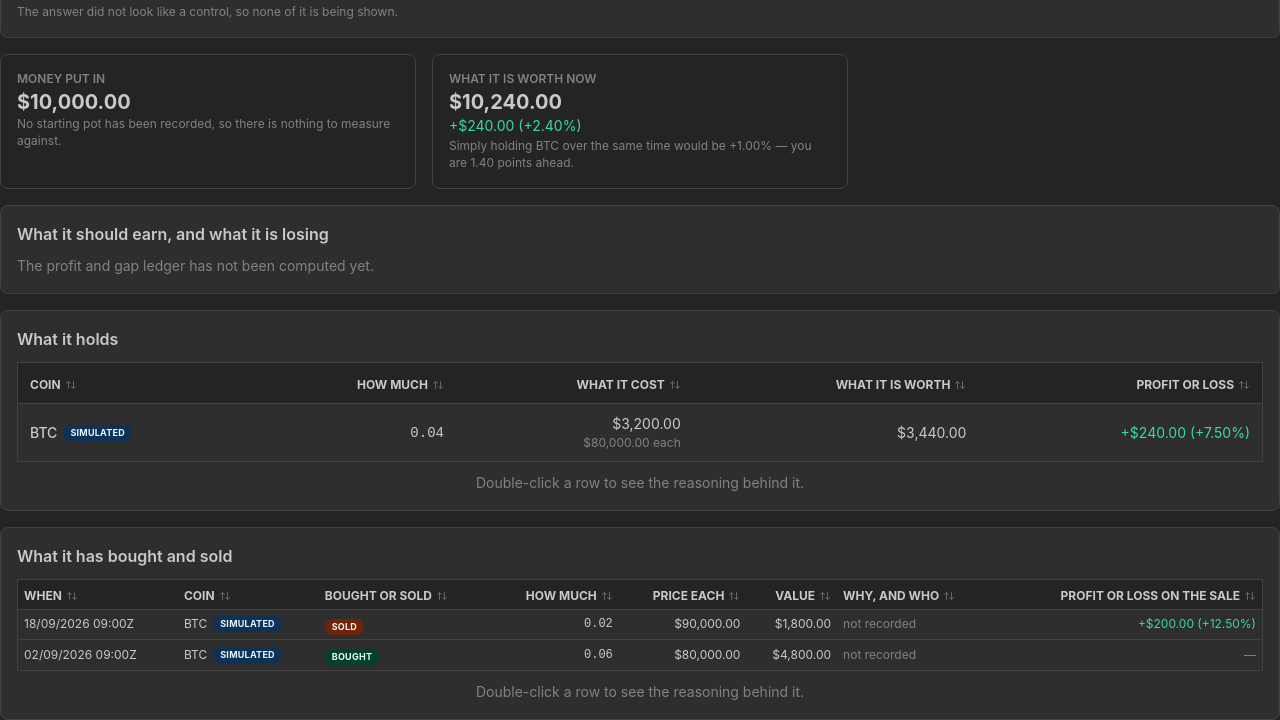
Test: Home › selects on one click and opens the reasoning on two
(page scrolled)
Click the row with test id "data-row-a:2" at (640, 625), box [18, 610, 1262, 640]
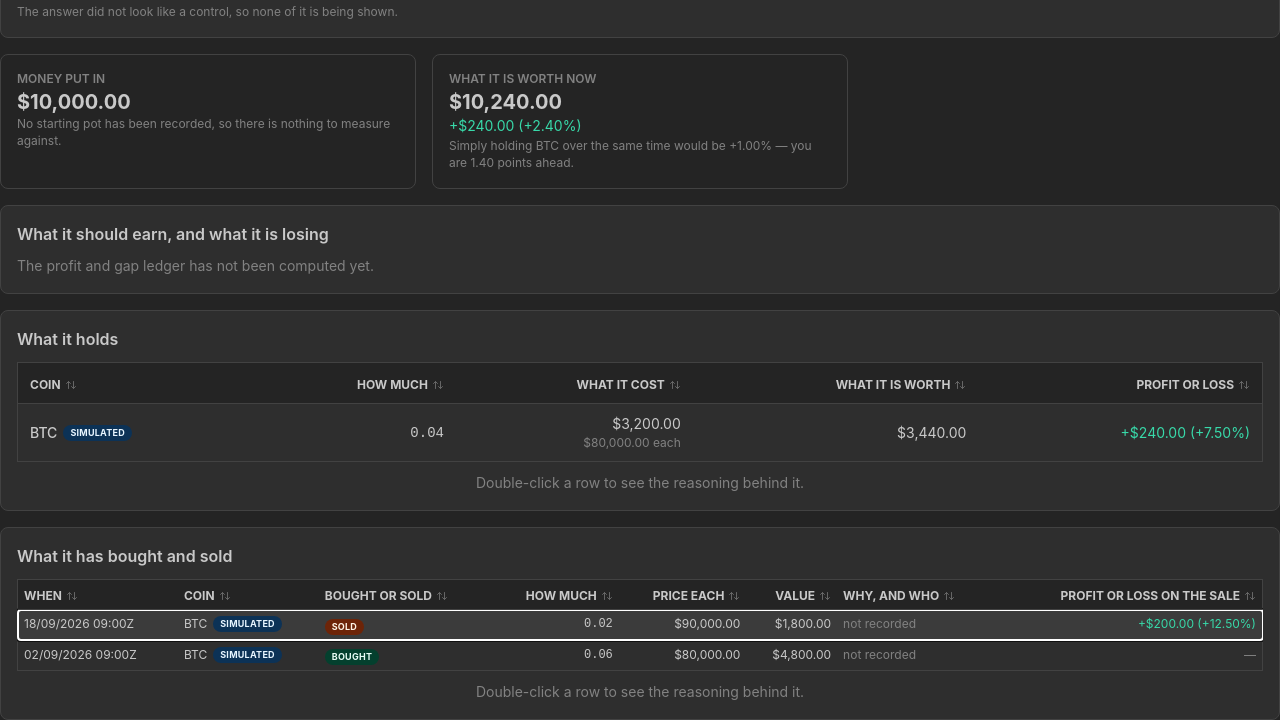
Double-click the row with test id "data-row-a:2" at (640, 625), box [18, 610, 1262, 640]
(page scrolled)
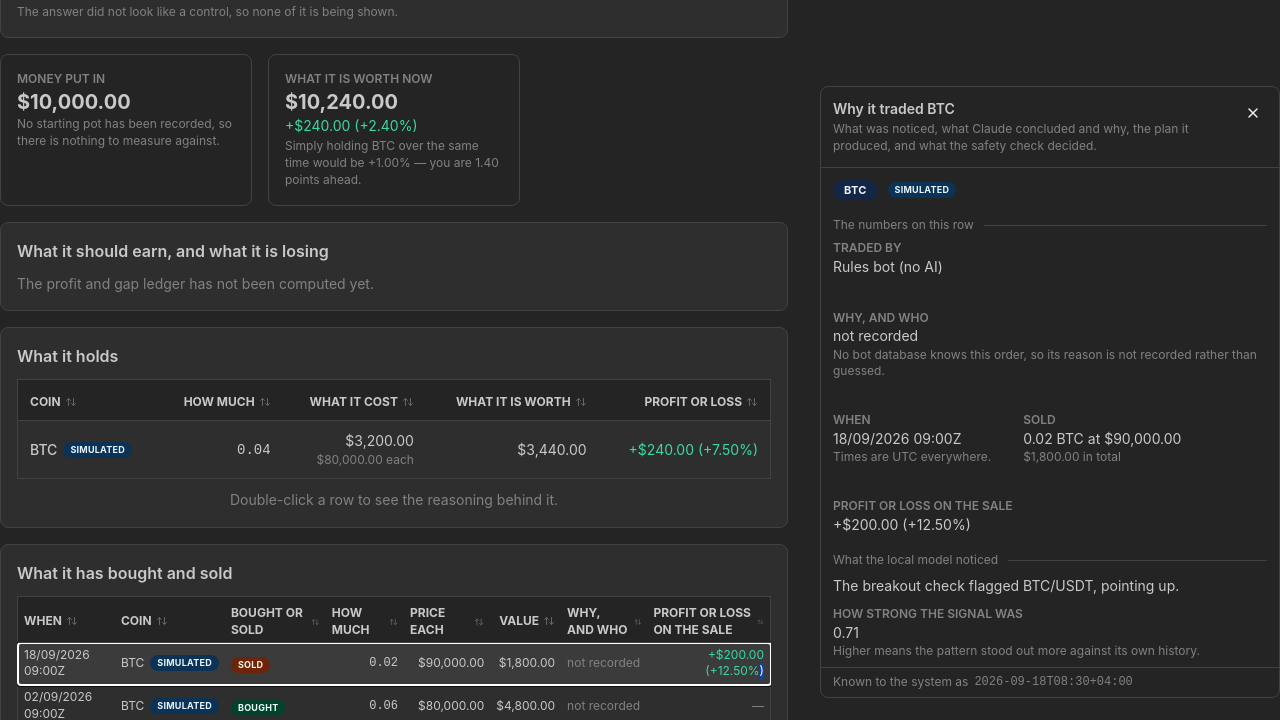
Check: the text with test id "detail-pane-title" reads "Why it traded BTC", box [833, 100, 955, 117]
Check: the text with test id "reason-noticed" shows "breakout", box [833, 577, 1093, 594]
